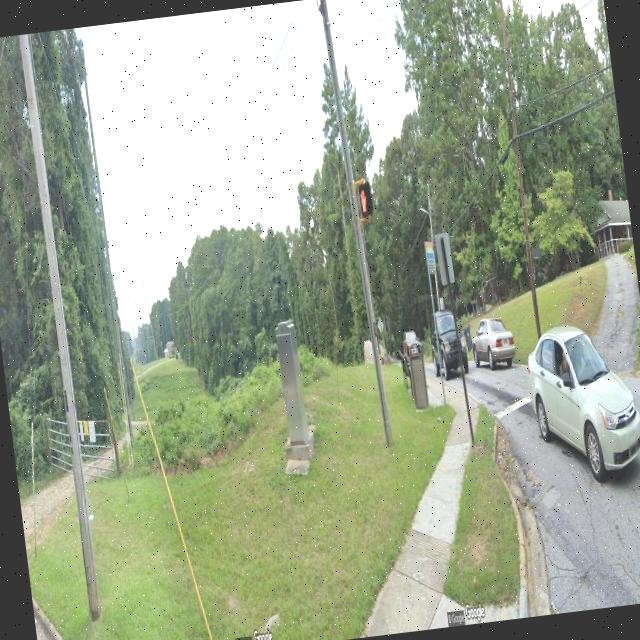seating: (398, 348, 415, 401)
trash_can: (406, 338, 430, 412)
